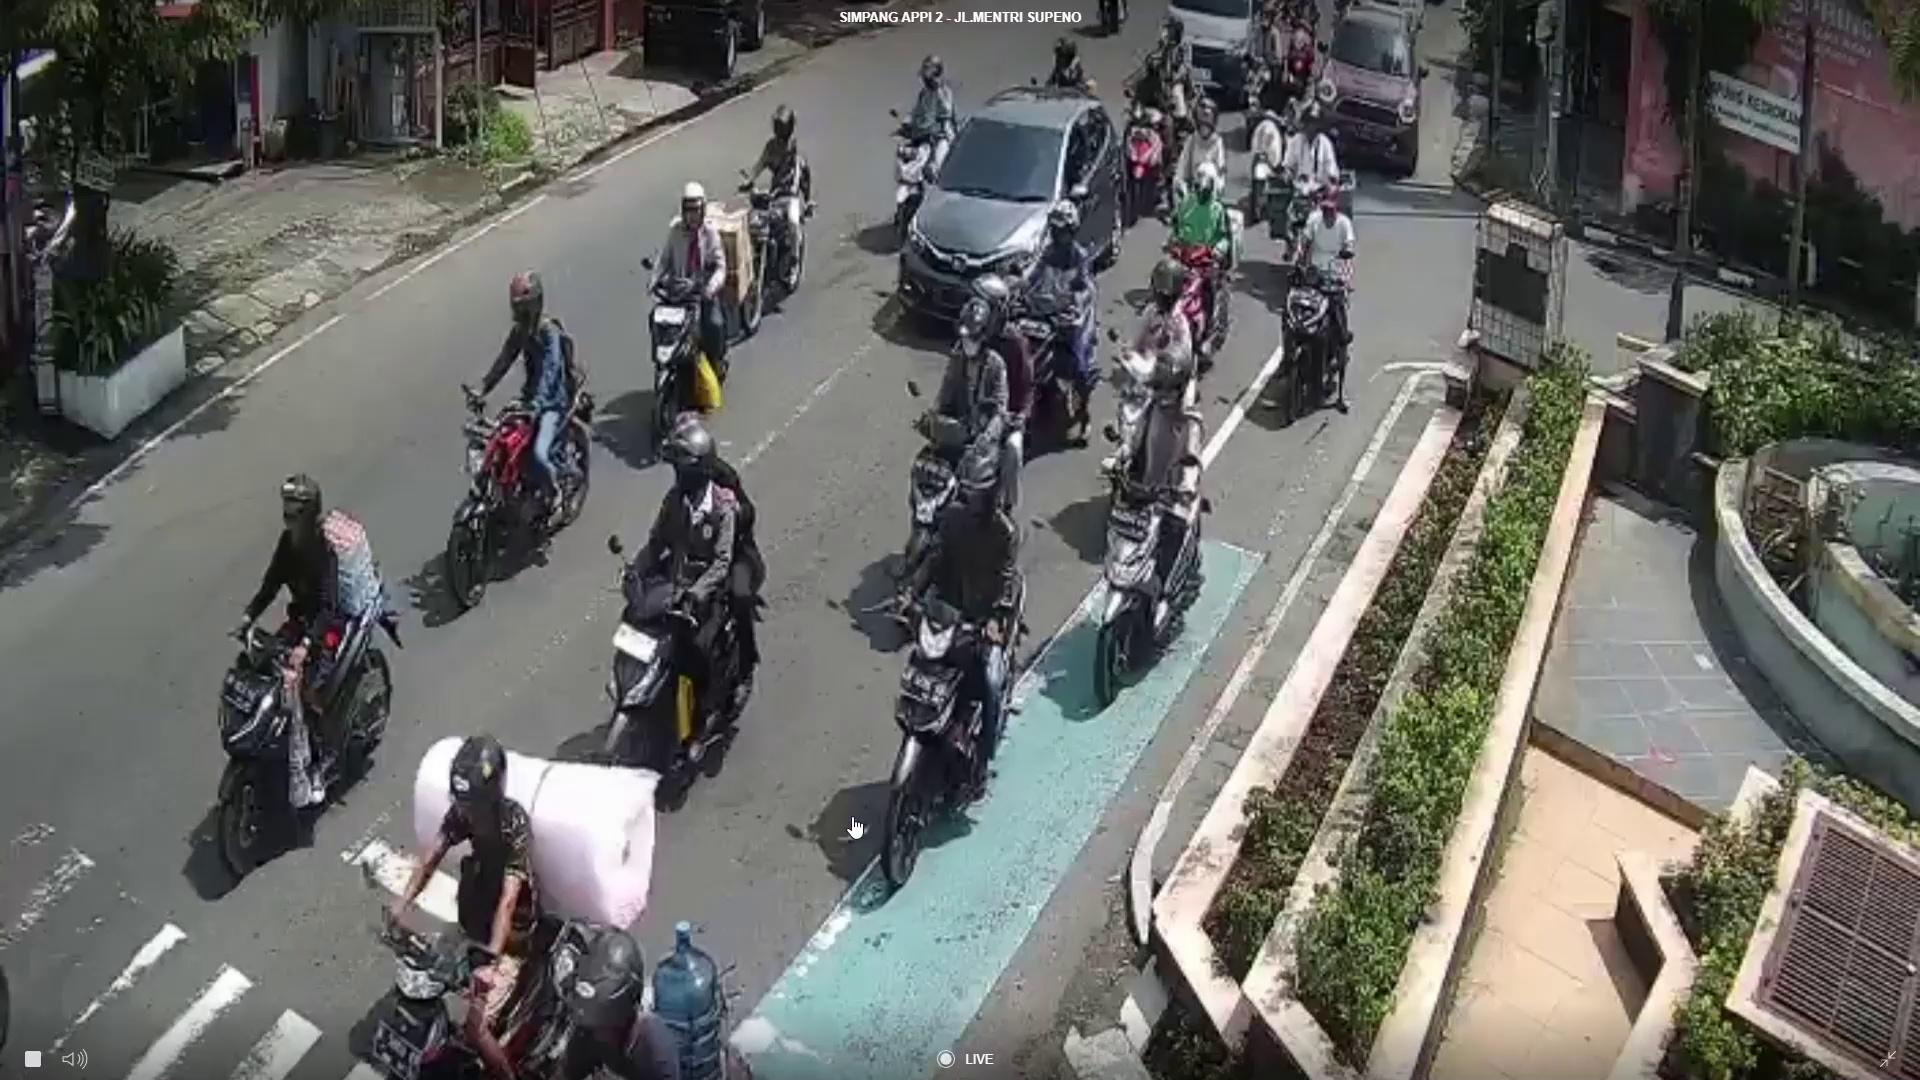car: (899, 83, 1124, 339), (1312, 0, 1422, 177)
motorbike: (215, 588, 397, 885), (881, 563, 1034, 872), (447, 372, 588, 611), (600, 564, 761, 760), (1095, 469, 1205, 699), (1278, 255, 1345, 434), (644, 273, 707, 452), (913, 415, 959, 588), (748, 185, 800, 332)
